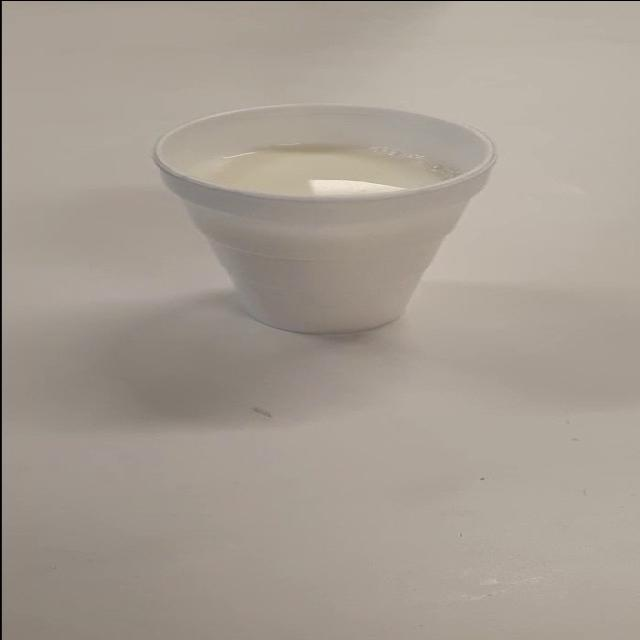Milk: (138, 99, 577, 362)
